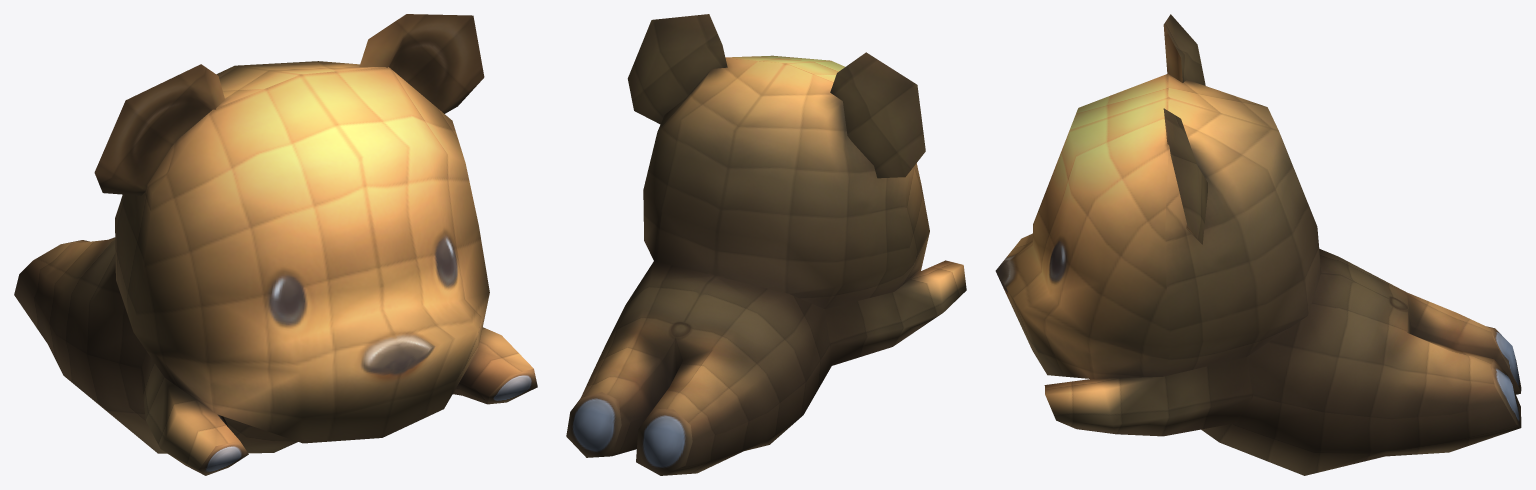
The model's file is All_Bear_Fly.FBX.
3 views of the same model, side by side, from view 1: azimuth 30°, elevation 25°; view 2: azimuth 150°, elevation 25°; view 3: azimuth 270°, elevation 25° (orthographic). The views are drawn at different scales.
Visible parts, largest first — view 1: All_Bear_Fly; view 2: All_Bear_Fly; view 3: All_Bear_Fly.
Boxes of the visible parts, bbox=[...] form: All_Bear_Fly: bbox=[14, 14, 537, 475]; All_Bear_Fly: bbox=[566, 14, 966, 475]; All_Bear_Fly: bbox=[995, 14, 1521, 475].
Bounding box in the file's own units: 547 × 767 × 638.
